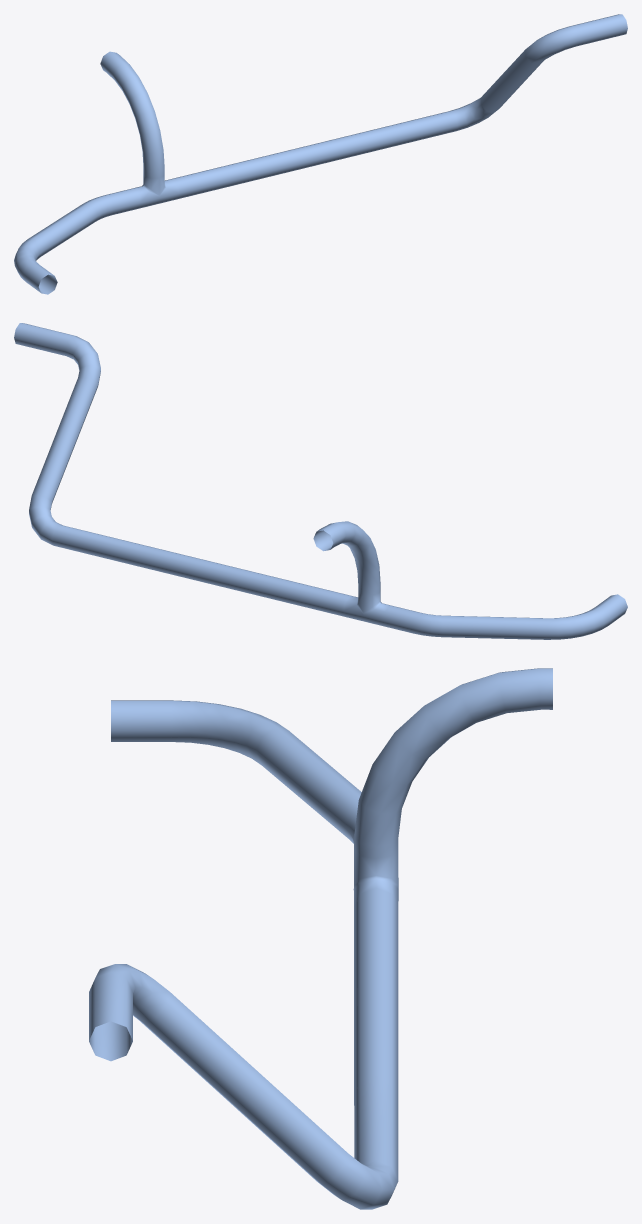
The model's file is PipeComplexSmall_B_03.fbx.
3 views of the same model, one above another, from view 1: azimuth 30°, elevation 25°; view 2: azimuth 150°, elevation 25°; view 3: azimuth 270°, elevation 25° (orthographic). The views are drawn at different scales.
Visible parts, largest first — view 1: PipeComplexSmall_B_03.001; view 2: PipeComplexSmall_B_03.001; view 3: PipeComplexSmall_B_03.001.
Boxes of the visible parts, box(x1,y1,x2,y2) form: PipeComplexSmall_B_03.001: box(14, 14, 627, 294); PipeComplexSmall_B_03.001: box(14, 323, 627, 639); PipeComplexSmall_B_03.001: box(89, 668, 552, 1209).
Size of the model in its own units: 3.05 by 0.7 by 1.05.
